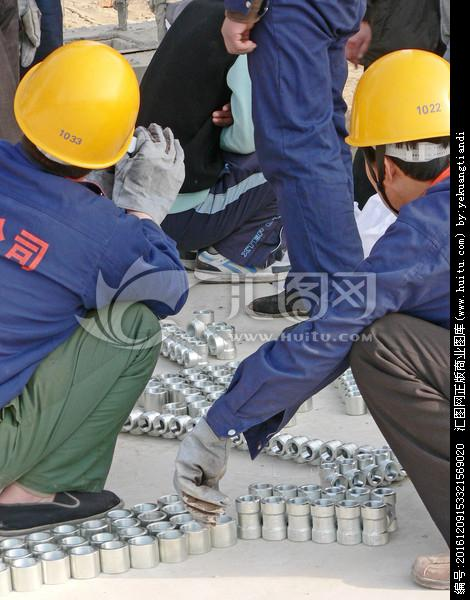boots: (1, 489, 122, 536), (245, 288, 310, 320), (410, 552, 449, 590)
gloves: (110, 122, 185, 225), (171, 416, 230, 525)
hard-hat: (13, 39, 141, 170), (344, 47, 451, 147)
person: (173, 44, 451, 588), (1, 38, 189, 531)
vest: (1, 138, 189, 414)
